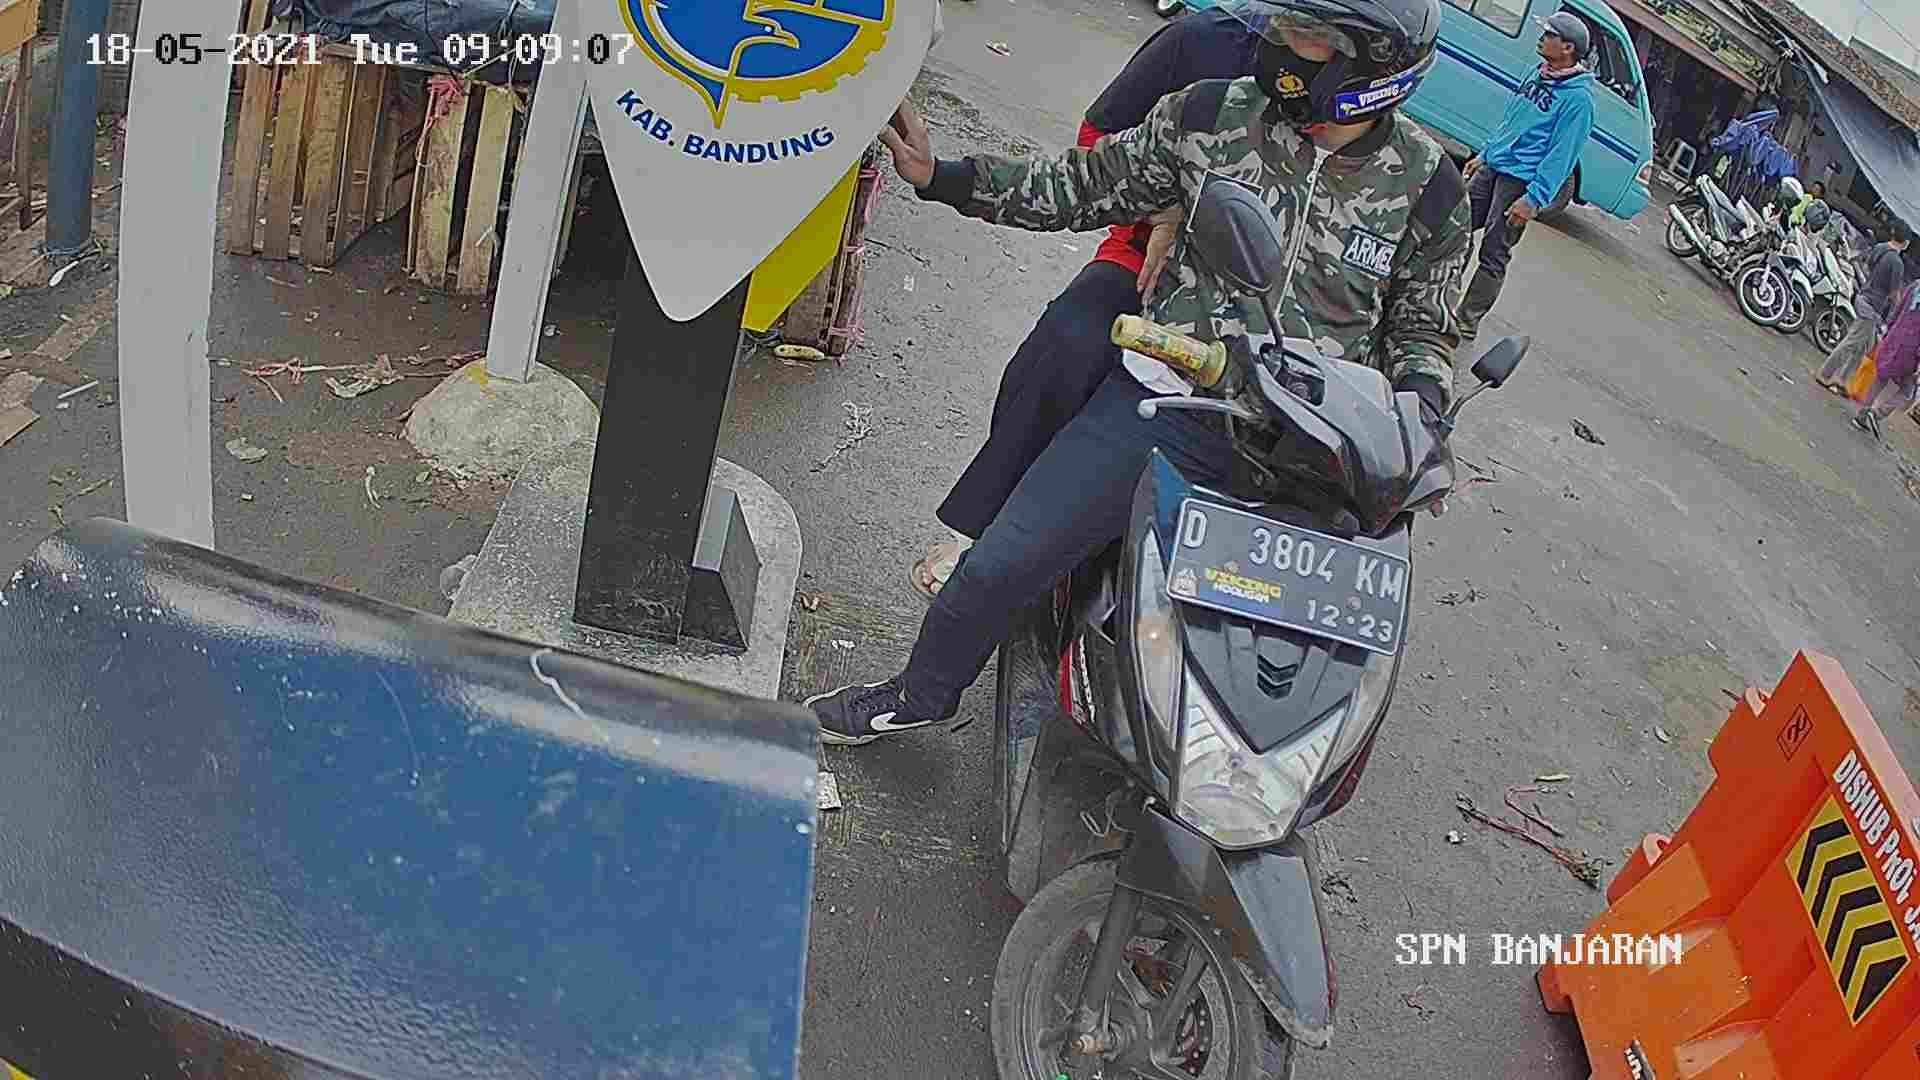motor: (944, 281, 1501, 1080)
